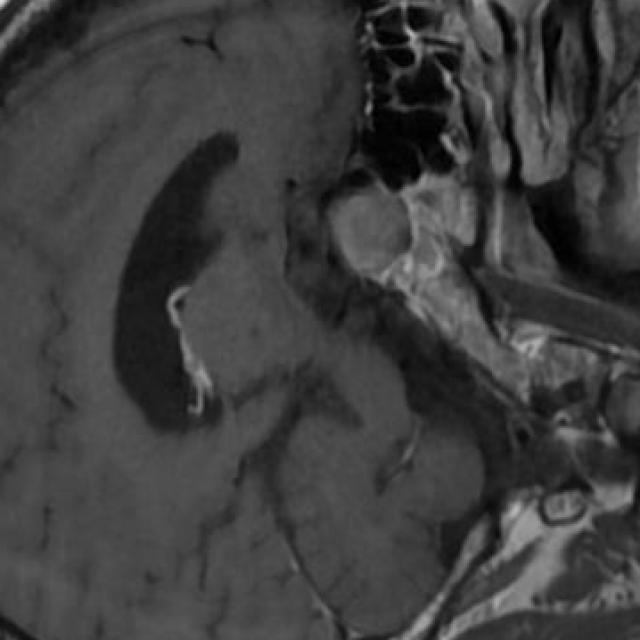pituitary: (328, 185, 412, 280)
